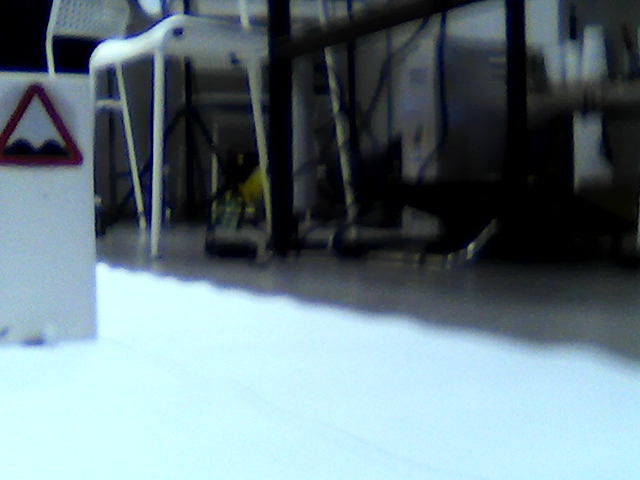Nerov: (5, 82, 84, 172)
